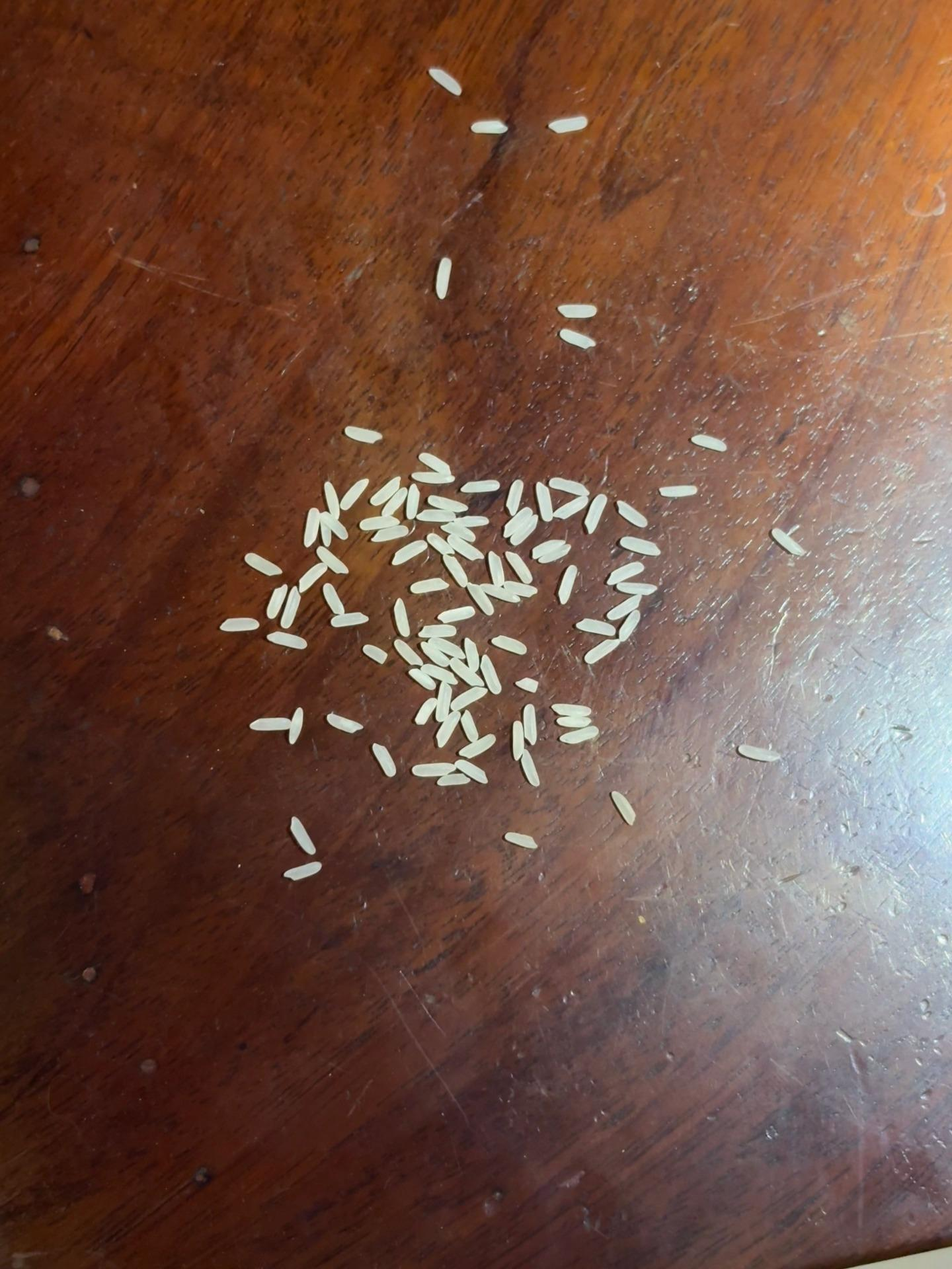Rice-th-y-nh: (770, 527, 807, 558), (449, 657, 485, 688), (428, 66, 463, 96), (447, 534, 484, 562), (584, 637, 621, 665), (279, 586, 303, 629), (505, 720, 530, 761), (502, 507, 534, 539), (369, 476, 402, 507), (434, 711, 461, 748), (297, 561, 328, 593), (340, 478, 370, 511), (290, 817, 316, 855), (505, 550, 534, 584), (479, 654, 503, 695), (559, 724, 600, 748), (432, 681, 456, 722), (467, 582, 495, 617), (584, 494, 608, 534), (556, 565, 580, 605), (316, 546, 349, 575), (244, 553, 283, 577), (611, 790, 637, 826), (606, 595, 642, 621), (509, 515, 539, 546), (459, 734, 496, 759), (450, 686, 487, 711), (738, 742, 780, 764), (455, 758, 489, 785), (606, 561, 644, 585), (442, 553, 468, 588), (301, 507, 323, 548), (391, 540, 427, 565), (411, 760, 456, 780), (616, 500, 648, 528), (426, 637, 466, 659), (534, 482, 556, 522), (480, 583, 520, 605), (420, 663, 458, 686), (393, 639, 424, 667), (520, 704, 541, 745), (372, 743, 397, 777), (554, 495, 589, 519), (548, 114, 588, 135), (381, 487, 408, 518), (620, 536, 661, 556), (266, 630, 307, 650), (392, 598, 413, 637), (419, 452, 453, 476), (321, 512, 349, 541), (420, 642, 451, 668), (265, 584, 288, 619), (520, 749, 541, 787), (434, 257, 453, 299), (491, 634, 527, 656), (577, 617, 616, 637), (549, 477, 590, 496), (441, 521, 476, 543), (359, 514, 399, 533), (486, 551, 507, 587), (560, 328, 596, 349), (531, 538, 567, 559), (471, 117, 508, 137), (322, 583, 345, 615), (618, 610, 641, 642), (412, 469, 455, 486), (327, 714, 363, 734), (427, 495, 467, 513), (416, 506, 456, 524), (551, 701, 591, 719), (538, 544, 572, 565), (285, 862, 322, 881), (287, 707, 306, 744), (410, 577, 449, 595), (505, 480, 525, 515), (371, 525, 409, 543), (323, 482, 341, 520), (439, 605, 475, 624), (345, 426, 382, 444), (461, 478, 500, 495), (220, 616, 259, 633), (460, 710, 480, 743), (616, 581, 657, 597), (691, 434, 727, 452), (504, 580, 538, 599), (462, 638, 481, 672), (418, 623, 456, 640), (427, 533, 455, 556), (415, 697, 438, 725), (330, 612, 369, 628), (409, 668, 436, 691), (556, 713, 592, 730), (558, 303, 596, 319), (250, 717, 290, 732), (405, 484, 422, 519), (505, 831, 538, 849), (451, 514, 489, 529), (658, 484, 698, 498), (362, 643, 388, 664), (437, 772, 470, 788), (319, 517, 333, 547), (515, 677, 539, 694)
